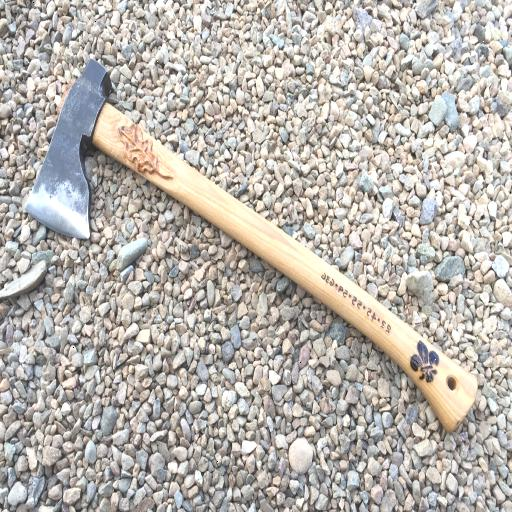Axe: (22, 54, 480, 436)
